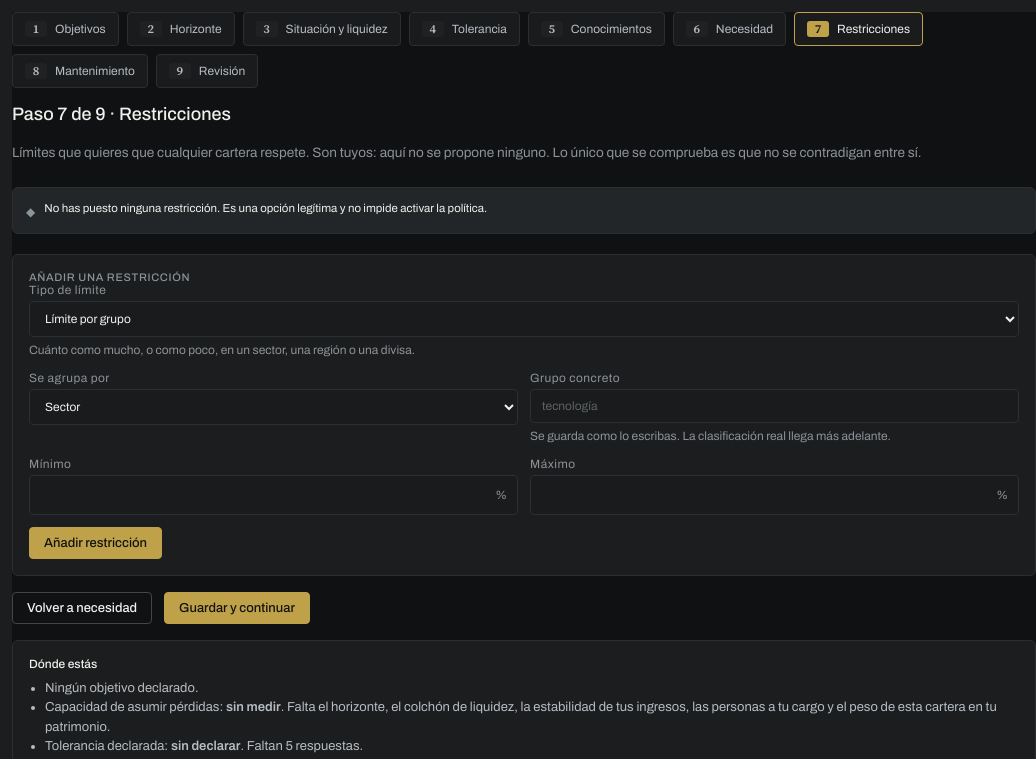
Test case: IpsWizard · restricciones › un máximo del 0 % avisa pero no bloquea
The width and height of the screenshot is (1036, 759).
Type "tabaco" into the field labelled "Grupo concreto" at (774, 406), box left=530, top=389, right=1019, bottom=423
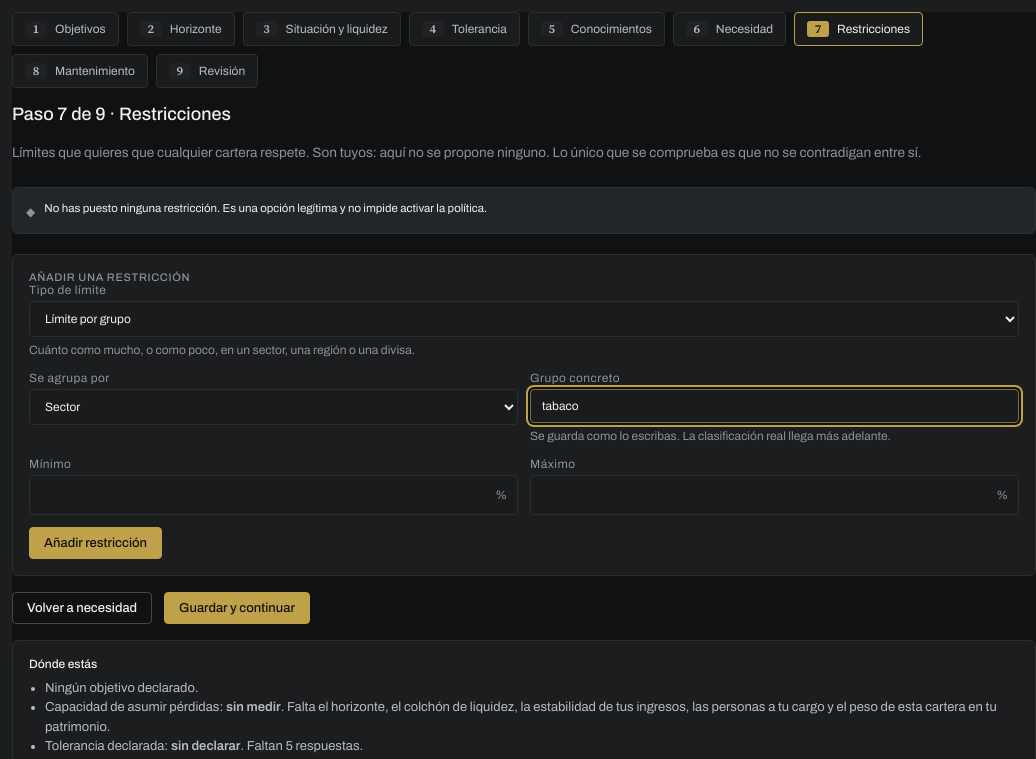
Type "0" into the field labelled "Máximo" at (774, 495), box left=530, top=475, right=1019, bottom=515
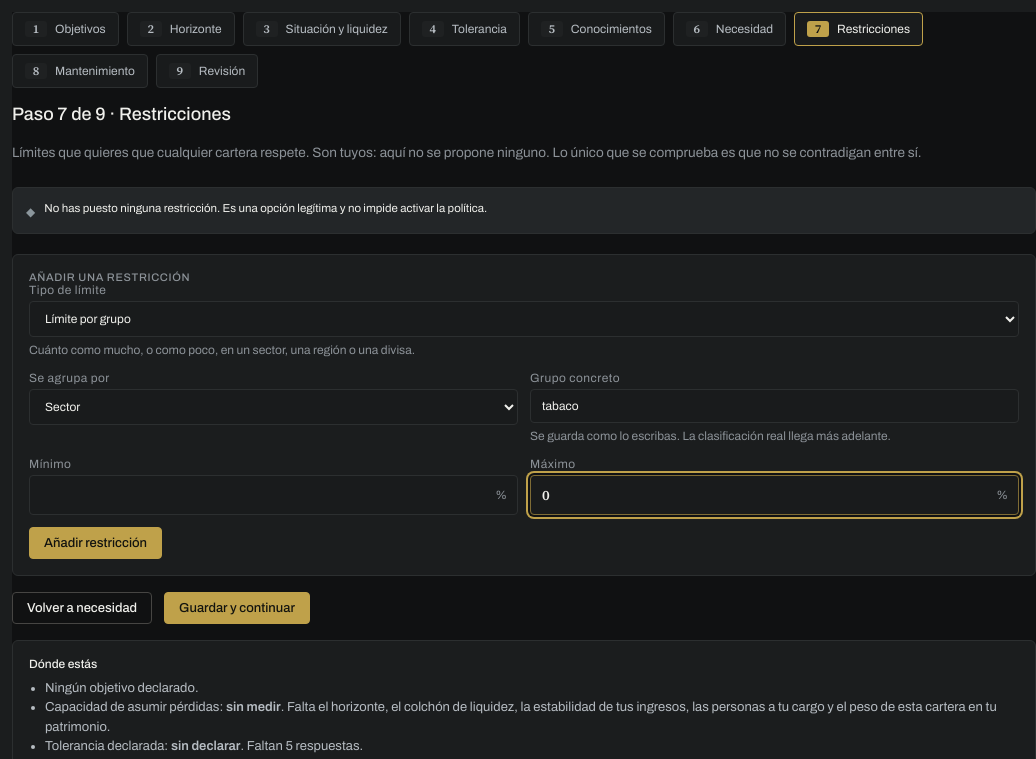
Click the button "Añadir restricción" at (96, 543), box left=29, top=527, right=162, bottom=559
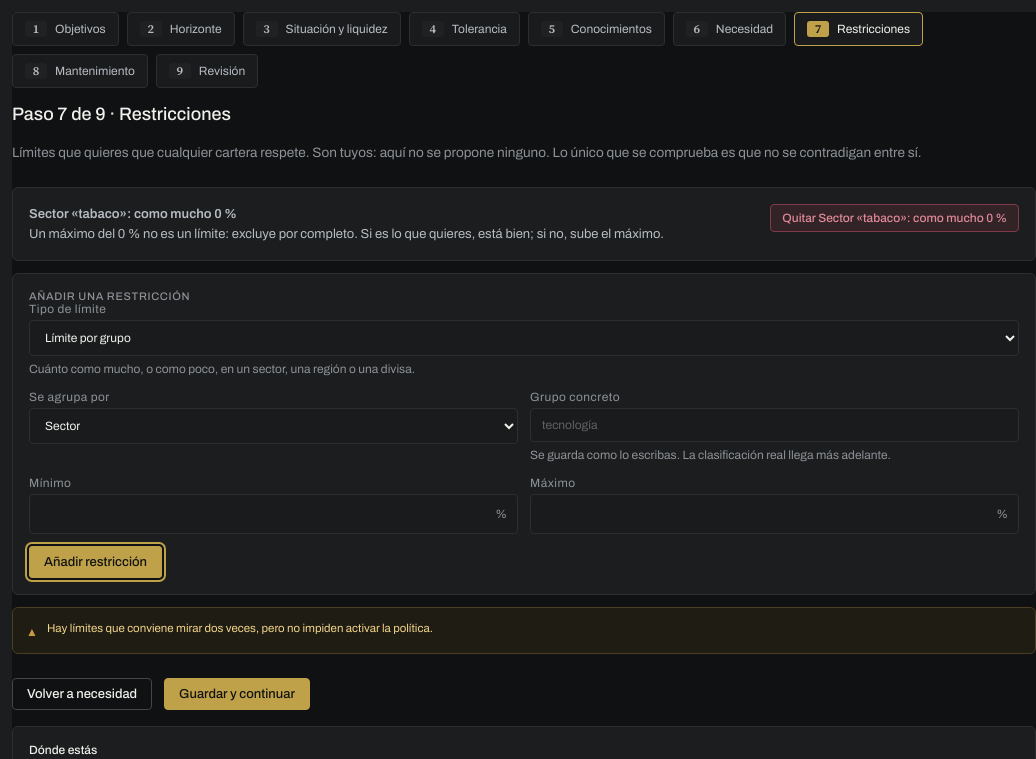
Expected: the text "no es un límite: excluye por completo" is shown, left=29, top=227, right=664, bottom=241
Expected: the text "no impiden activar la política" is shown, left=47, top=622, right=433, bottom=634
